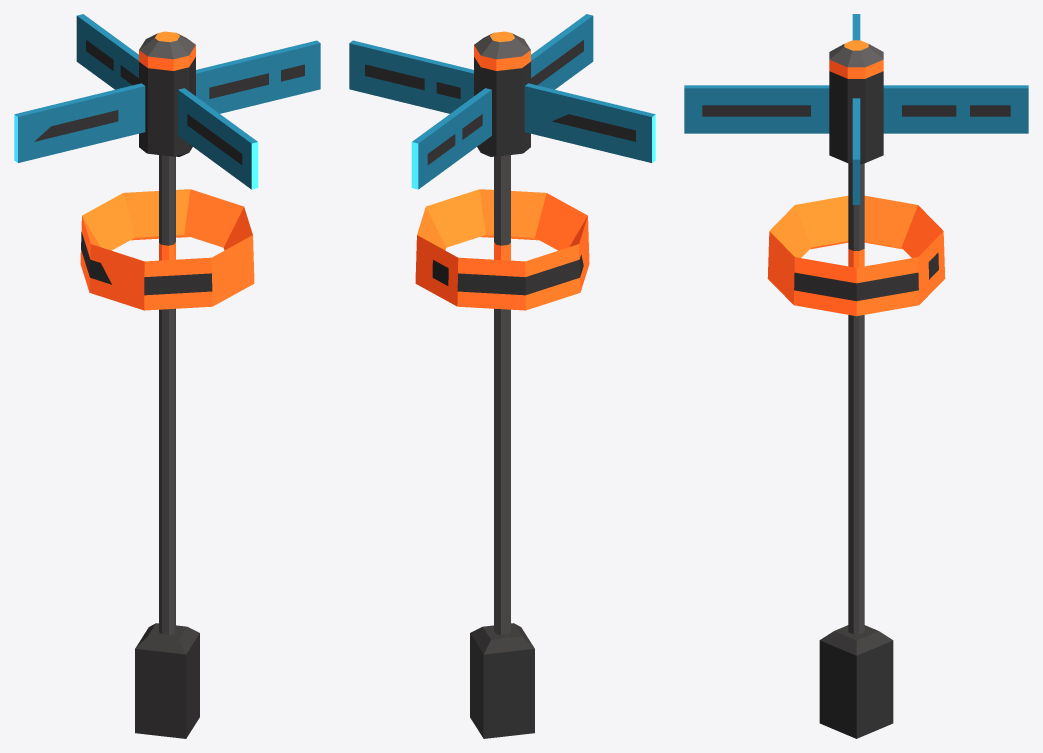
Rendered from scifi_scifi-lamp-city-signpost.fbx.
3 views of the same model, side by side, from view 1: azimuth 30°, elevation 25°; view 2: azimuth 150°, elevation 25°; view 3: azimuth 270°, elevation 25° (orthographic).
Visible parts, largest first — view 1: scifi_scifi_lamp_city_signpost; view 2: scifi_scifi_lamp_city_signpost; view 3: scifi_scifi_lamp_city_signpost.
Boxes of the visible parts, x1=… form: scifi_scifi_lamp_city_signpost: x1=14, y1=14, x2=320, y2=738; scifi_scifi_lamp_city_signpost: x1=349, y1=14, x2=655, y2=738; scifi_scifi_lamp_city_signpost: x1=684, y1=14, x2=1028, y2=738.
Bounding box in the file's own units: 92.07 × 200 × 92.07.
